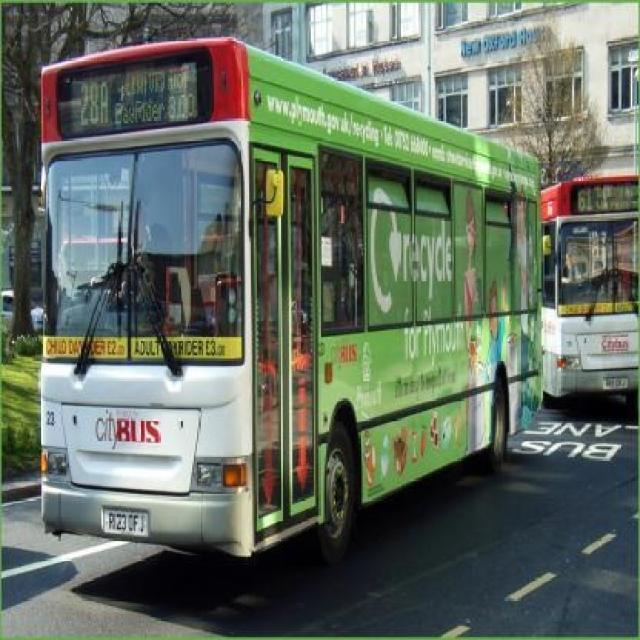Bus: (20, 45, 521, 574), (520, 165, 640, 422)
